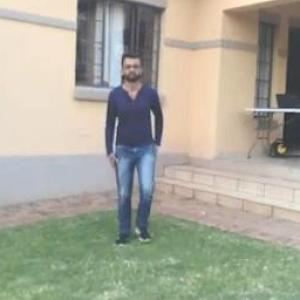follow: (104, 43, 169, 259)
